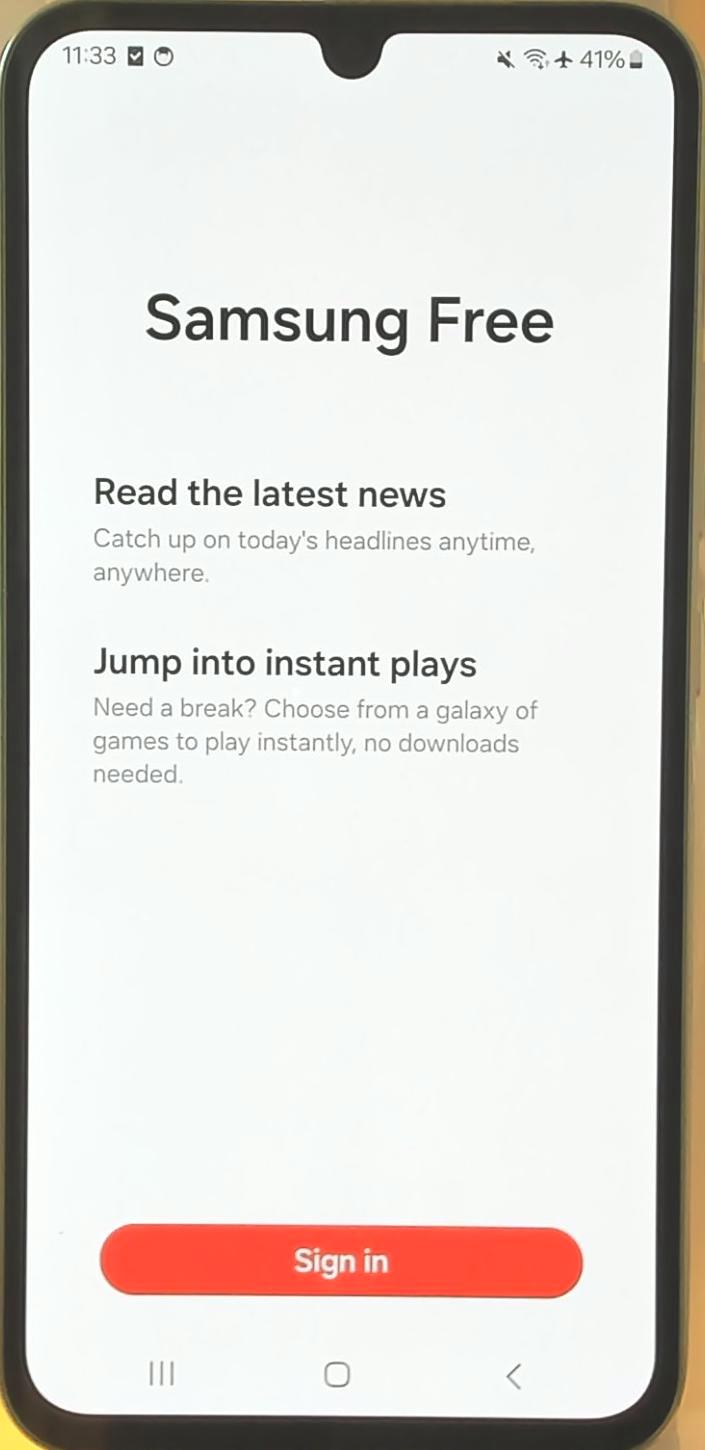CommunBotton: (98, 1218, 588, 1304), (132, 1342, 190, 1400), (308, 1344, 370, 1396), (494, 1348, 534, 1404)
